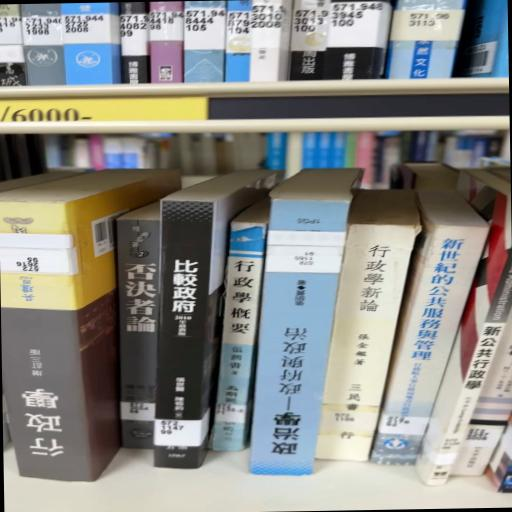reverse: (1, 170, 180, 482), (251, 170, 363, 477)
